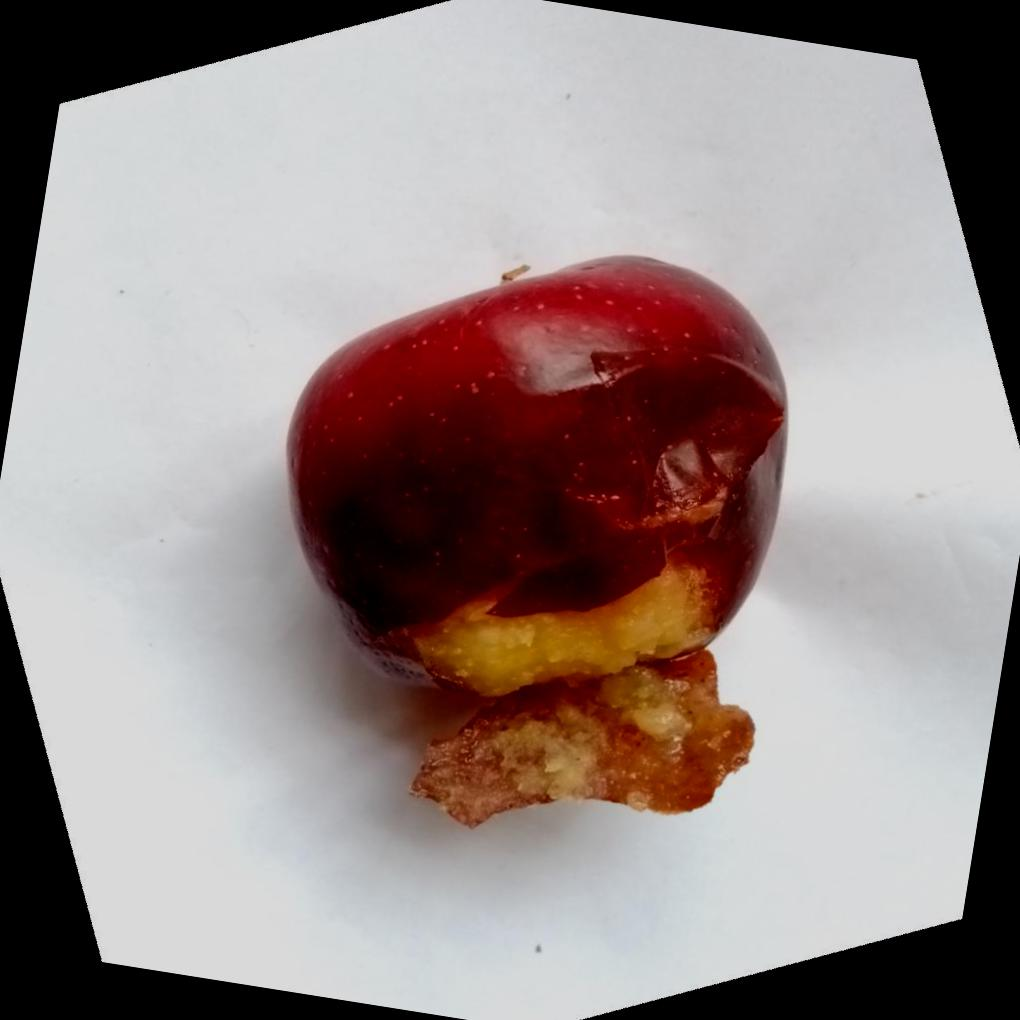FreshOrange: (285, 249, 789, 704)
